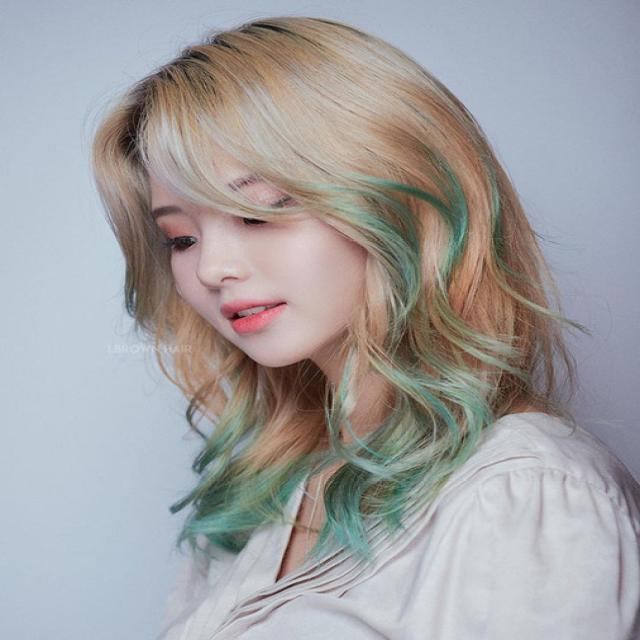Nonhelmet: (100, 6, 484, 365)
